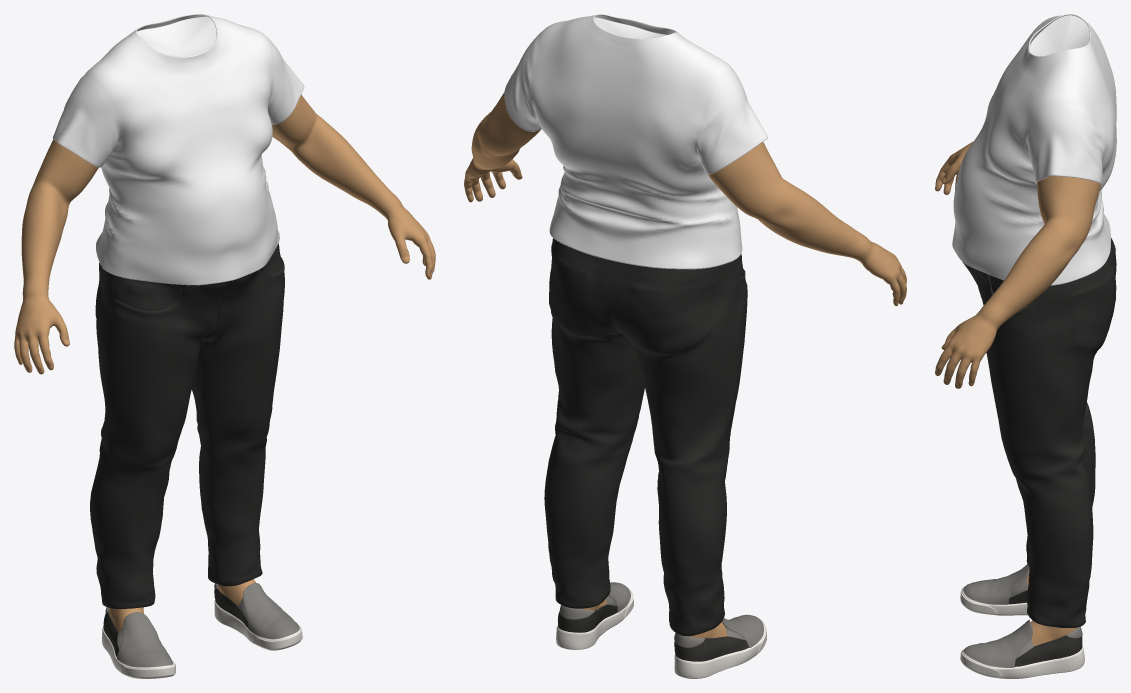
The model's file is Omar_fat_avg.fbx.
3 renders of one model, left to right at view 1: azimuth 30°, elevation 25°; view 2: azimuth 150°, elevation 25°; view 3: azimuth 270°, elevation 25°, orthographic. The views are drawn at different scales.
Visible parts, largest first — view 1: Legs_LOD0, Torso_LOD0, Body_LOD0, Feet; view 2: Legs_LOD0, Torso_LOD0, Body_LOD0, Feet; view 3: Legs_LOD0, Torso_LOD0, Body_LOD0, Feet.
Part boxes in pixels (left/top/right/bottom): Legs_LOD0: left=90, top=243, right=284, bottom=608; Torso_LOD0: left=52, top=14, right=304, bottom=285; Body_LOD0: left=14, top=94, right=435, bottom=632; Feet: left=101, top=583, right=302, bottom=678; Legs_LOD0: left=544, top=238, right=747, bottom=636; Torso_LOD0: left=504, top=14, right=768, bottom=269; Body_LOD0: left=464, top=92, right=906, bottom=638; Feet: left=556, top=582, right=766, bottom=678; Legs_LOD0: left=962, top=238, right=1116, bottom=627; Torso_LOD0: left=952, top=14, right=1116, bottom=285; Body_LOD0: left=935, top=141, right=1100, bottom=646; Feet: left=960, top=564, right=1084, bottom=678.
Size of the model in its own units: 108 by 40.79 by 150.
